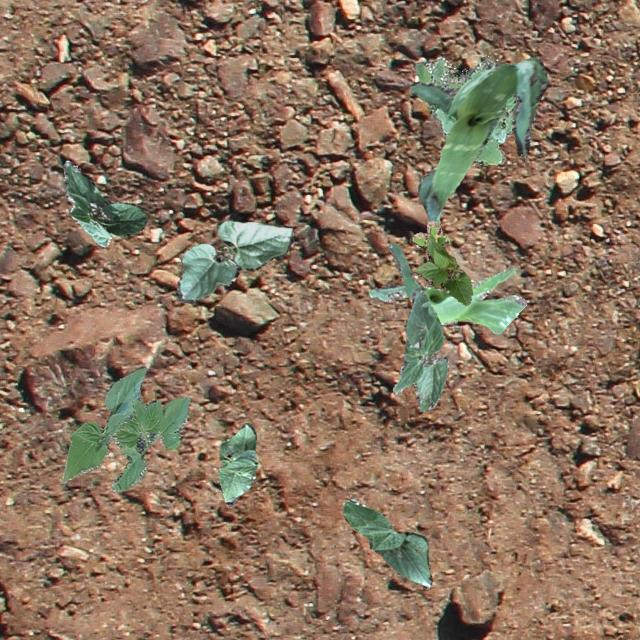crop: (408, 56, 546, 224), (60, 364, 190, 490), (368, 242, 526, 334), (175, 220, 292, 302), (342, 497, 431, 588), (62, 160, 146, 246), (392, 288, 448, 412), (412, 238, 472, 304), (218, 422, 256, 504)
weed: (414, 56, 518, 164), (412, 220, 448, 250)
